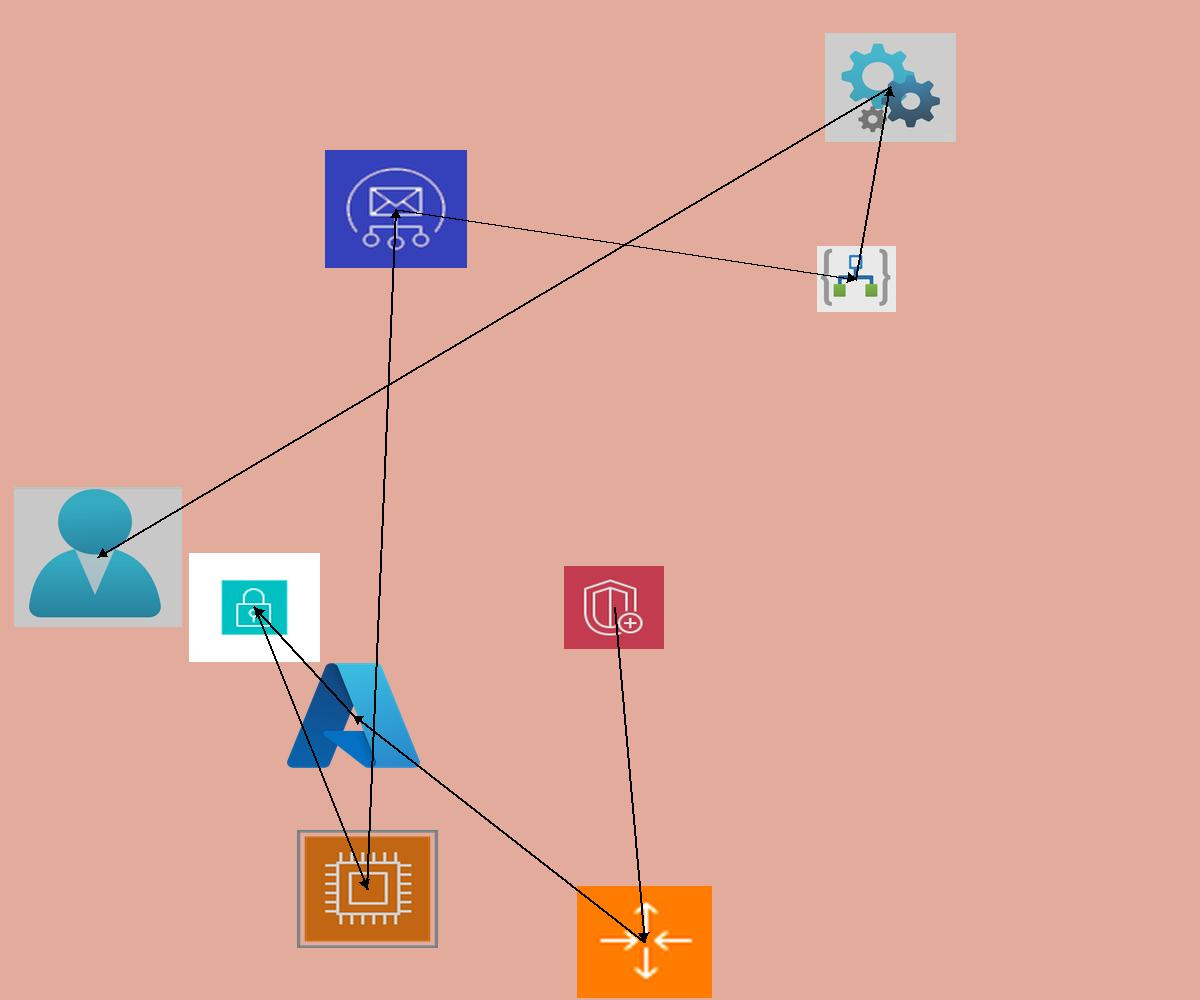AWS-Category_Compute: (297, 830, 438, 948)
AWS-Private-subnet: (189, 553, 320, 662)
AWS-Scaling-group: (577, 886, 712, 998)
AWS-Shield: (564, 566, 664, 649)
AWS-Simple-Email-Service: (325, 150, 467, 268)
Azure_api: (825, 33, 956, 142)
Azure_integration-204-Logic-Apps: (817, 246, 896, 312)
Azure_services: (281, 655, 426, 776)
Azure_users: (14, 487, 182, 627)
